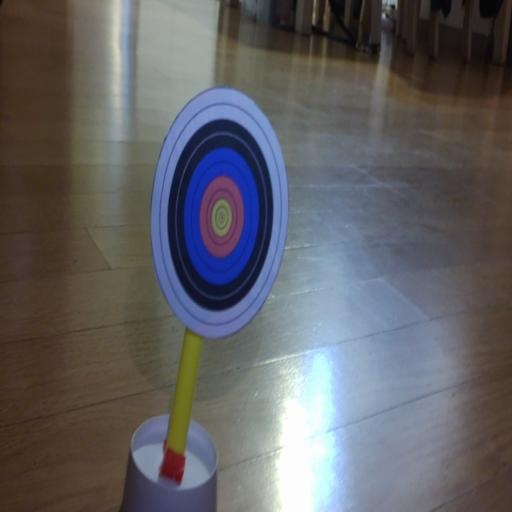target: (151, 87, 288, 338)
